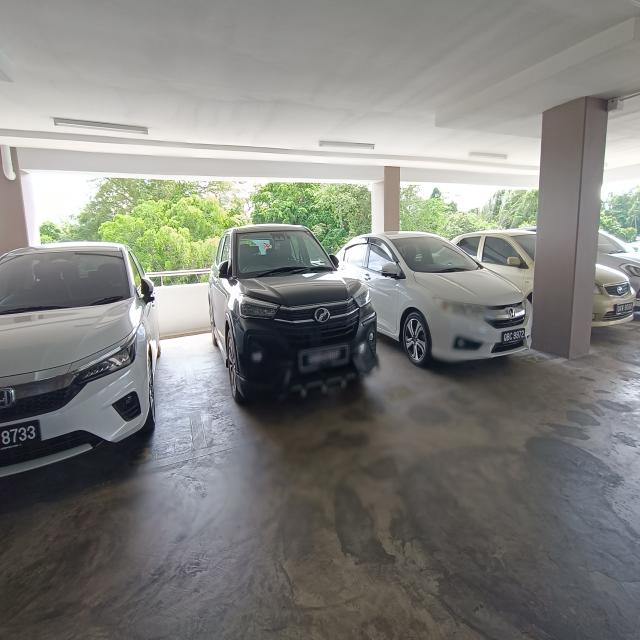PeroduaAtiva: (204, 224, 378, 416)
